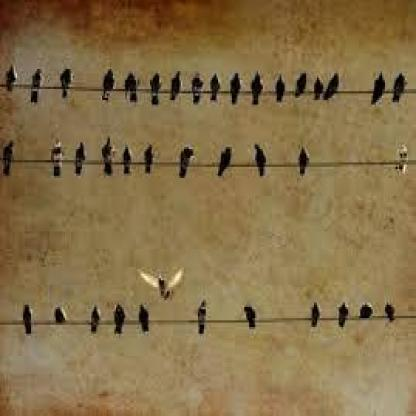bird: (138, 258, 198, 303), (228, 294, 270, 356), (302, 294, 332, 350), (3, 54, 34, 107), (88, 296, 119, 348), (106, 294, 135, 349), (211, 144, 247, 186), (133, 294, 165, 341), (192, 302, 220, 354), (379, 296, 413, 338), (286, 135, 319, 178), (1, 128, 28, 180), (8, 302, 42, 341), (246, 142, 279, 182), (165, 66, 196, 108), (333, 299, 358, 350), (308, 66, 330, 118), (171, 141, 200, 180), (205, 62, 228, 109), (28, 68, 57, 105), (330, 62, 354, 106), (48, 140, 76, 174), (120, 74, 150, 104), (373, 74, 396, 113), (272, 74, 296, 111), (53, 299, 75, 336), (354, 295, 374, 335), (77, 141, 100, 175), (100, 62, 120, 101), (123, 145, 148, 174), (226, 76, 246, 108)
